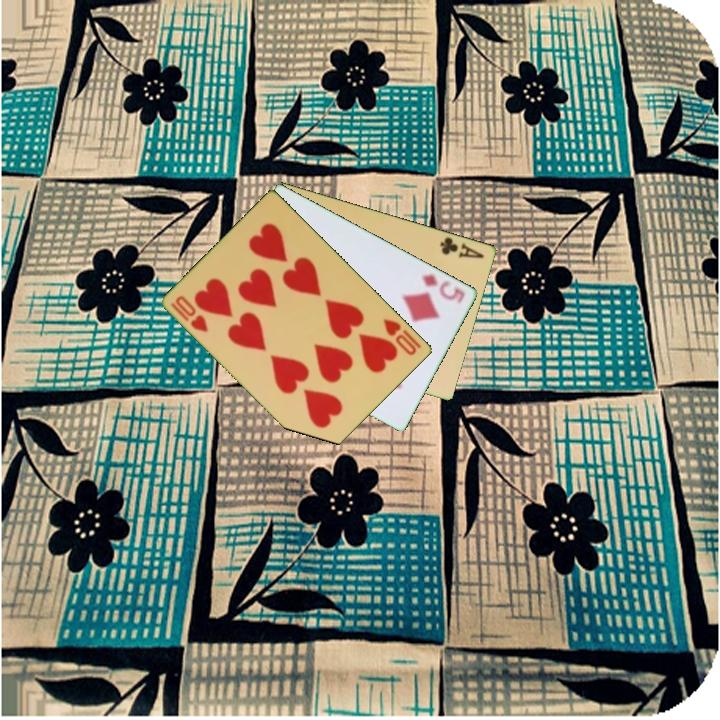10h: (380, 315, 425, 358), (168, 292, 211, 335)
5d: (419, 270, 468, 307)
Ac: (437, 233, 487, 261)
